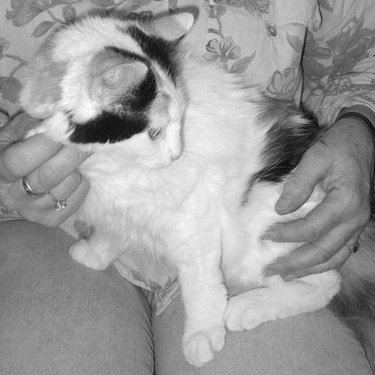cat: (6, 19, 348, 354)
